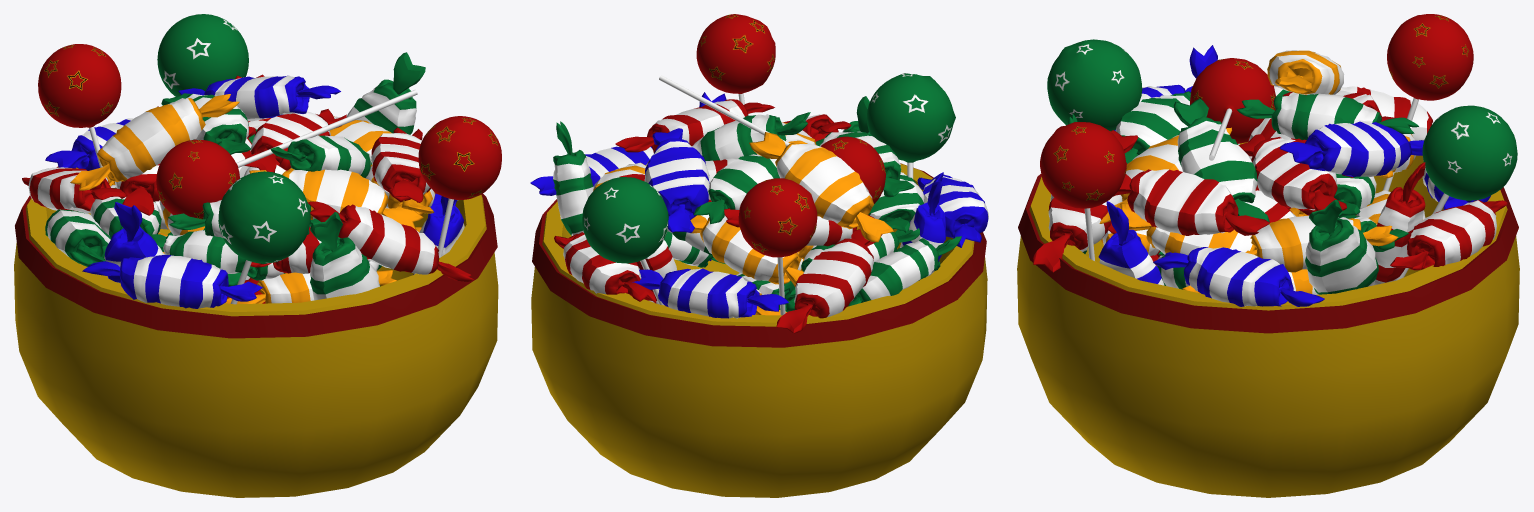
File: CandyBowl.fbx
3 views of the same model, side by side, from view 1: azimuth 30°, elevation 25°; view 2: azimuth 150°, elevation 25°; view 3: azimuth 270°, elevation 25° (orthographic). The views are drawn at different scales.
Parts seen in each view (by area): view 1: Bowl, CandyBowlRender:chupachups1, CandyBowlRender:Candy43, chupachups2, CandyBowlRender:chupachups4, CandyBowlRender:chupachups2, CandyBowlRender:Candy34, CandyBowlRender:chupachups3, CandyBowlRender:Candy39, CandyBowlRender:Candy37, CandyBowlRender:Candy42, CandyBowlRender:Candy14 (+19 smaller); view 2: Bowl, CandyBowlRender:chupachups3, CandyBowlRender:Candy43, CandyBowlRender:chupachups1, CandyBowlRender:chupachups2, chupachups2, CandyBowlRender:Candy38, CandyBowlRender:Candy32, CandyBowlRender:Candy42, CandyBowlRender:Candy15, CandyBowlRender:Candy31, CandyBowlRender:Candy35 (+16 smaller); view 3: Bowl, CandyBowlRender:chupachups3, CandyBowlRender:chupachups1, CandyBowlRender:Candy25, chupachups2, CandyBowlRender:chupachups2, CandyBowlRender:Candy33, CandyBowlRender:Candy42, CandyBowlRender:Candy18, CandyBowlRender:Candy36, CandyBowlRender:Candy35, CandyBowlRender:chupachups4 (+15 smaller).
Part boxes in pixels (<box>): Bowl: <box>14,166,498,497</box>; CandyBowlRender:chupachups1: <box>218,171,310,304</box>; CandyBowlRender:Candy43: <box>70,94,239,190</box>; chupachups2: <box>418,116,501,257</box>; CandyBowlRender:chupachups4: <box>156,89,417,219</box>; CandyBowlRender:chupachups2: <box>38,44,121,167</box>; CandyBowlRender:Candy34: <box>82,255,262,308</box>; CandyBowlRender:chupachups3: <box>157,14,248,96</box>; CandyBowlRender:Candy39: <box>307,201,473,281</box>; CandyBowlRender:Candy37: <box>310,212,380,300</box>; CandyBowlRender:Candy42: <box>178,75,340,121</box>; CandyBowlRender:Candy14: <box>249,168,423,230</box>; Bowl: <box>531,163,987,497</box>; CandyBowlRender:chupachups3: <box>582,177,668,305</box>; CandyBowlRender:Candy43: <box>749,132,893,242</box>; CandyBowlRender:chupachups1: <box>866,73,955,179</box>; CandyBowlRender:chupachups2: <box>738,178,817,315</box>; chupachups2: <box>696,14,775,104</box>; CandyBowlRender:Candy38: <box>776,229,882,333</box>; CandyBowlRender:Candy32: <box>632,268,788,318</box>; CandyBowlRender:Candy42: <box>644,128,709,232</box>; CandyBowlRender:Candy15: <box>690,215,803,286</box>; CandyBowlRender:Candy31: <box>848,236,961,306</box>; CandyBowlRender:Candy35: <box>554,232,656,303</box>; Bowl: <box>1017,142,1519,497</box>; CandyBowlRender:chupachups3: <box>1395,105,1517,280</box>; CandyBowlRender:chupachups1: <box>1047,39,1142,130</box>; CandyBowlRender:Candy25: <box>1113,169,1269,235</box>; chupachups2: <box>1040,122,1126,260</box>; CandyBowlRender:chupachups2: <box>1383,14,1473,191</box>; CandyBowlRender:Candy33: <box>1153,247,1324,306</box>; CandyBowlRender:Candy42: <box>1279,121,1424,177</box>; CandyBowlRender:Candy18: <box>1173,98,1269,222</box>; CandyBowlRender:Candy36: <box>1305,200,1378,294</box>; CandyBowlRender:Candy35: <box>1390,200,1507,270</box>; CandyBowlRender:chupachups4: <box>1190,58,1275,160</box>.
Size of the model in its own units: 7.94 by 6.1 by 7.74.
